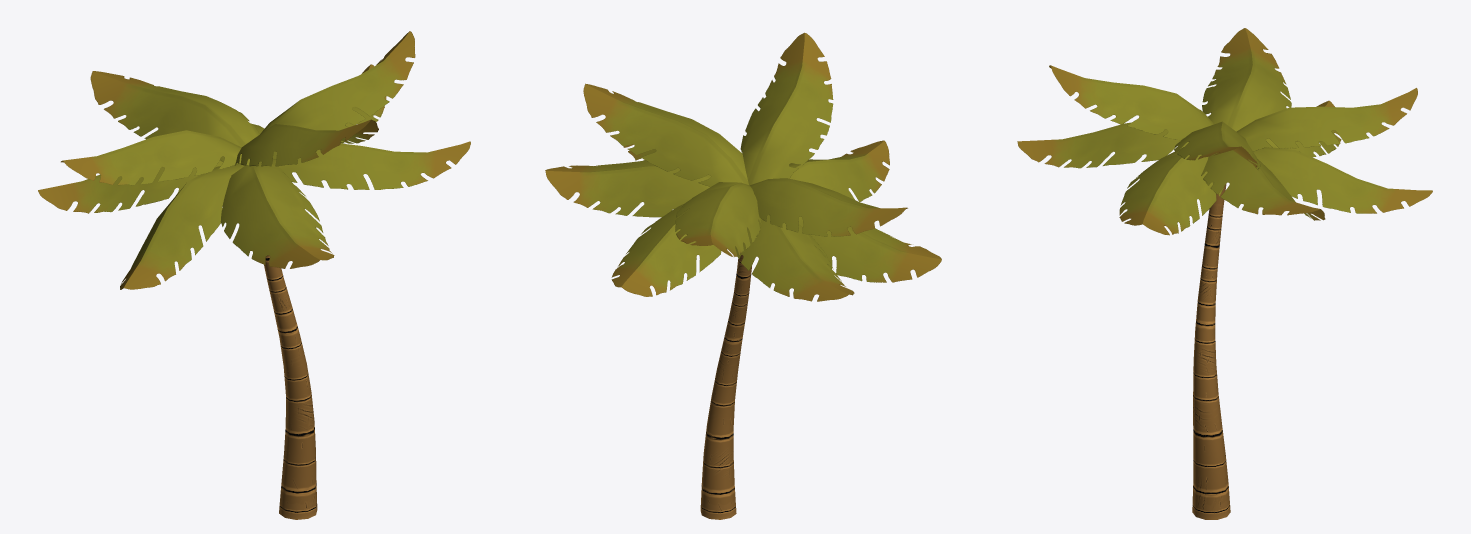
The model's file is PalmTree01.fbx.
3 views of the same model, side by side, from view 1: azimuth 30°, elevation 25°; view 2: azimuth 150°, elevation 25°; view 3: azimuth 270°, elevation 25° (orthographic). The views are drawn at different scales.
Parts seen in each view (by area): view 1: PalmTree01_LOD0; view 2: PalmTree01_LOD0; view 3: PalmTree01_LOD0.
Part boxes in pixels (bbox=[...]): PalmTree01_LOD0: bbox=[38, 31, 470, 519]; PalmTree01_LOD0: bbox=[545, 32, 941, 519]; PalmTree01_LOD0: bbox=[1017, 28, 1432, 519].
Size of what is drawn, in the model's own units: 553 by 611 by 567.
Materials: 1 (1 with a texture image).
